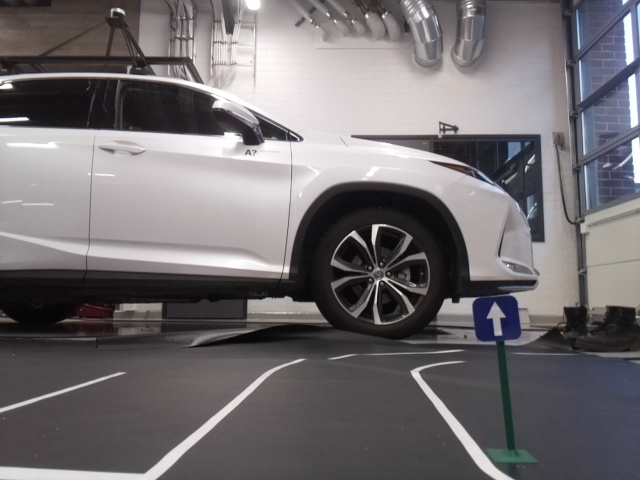OneWay: (473, 299, 520, 337)
